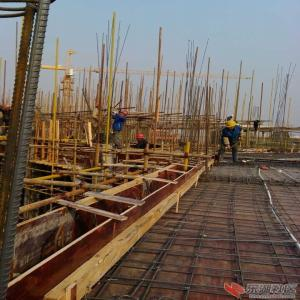red: (137, 134, 145, 142), (119, 111, 128, 118)
white: (232, 116, 235, 119)
yellow: (227, 121, 237, 130)
